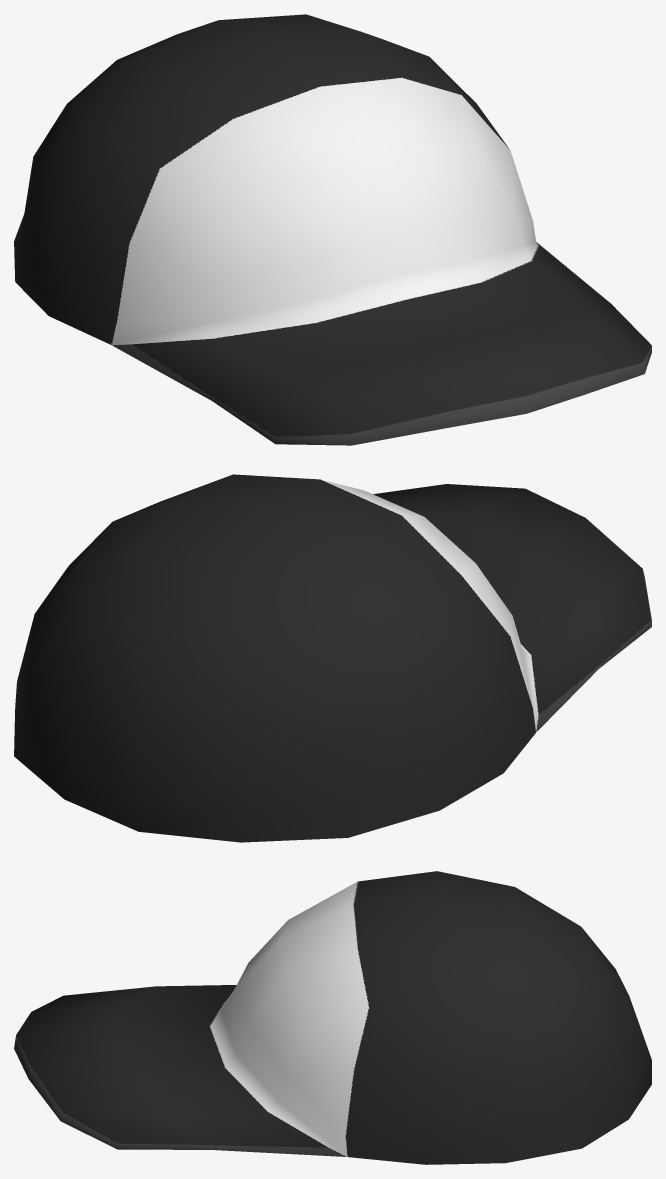
File: Acess_Boné.fbx
3 views of the same model, one above another, from view 1: azimuth 30°, elevation 25°; view 2: azimuth 150°, elevation 25°; view 3: azimuth 270°, elevation 25° (orthographic). The views are drawn at different scales.
Parts seen in each view (by area): view 1: Cube.002; view 2: Cube.002; view 3: Cube.002.
Boxes of the visible parts, bbox=[...] form: Cube.002: bbox=[14, 14, 651, 445]; Cube.002: bbox=[14, 474, 651, 842]; Cube.002: bbox=[14, 871, 651, 1164].
Size of the model in its own units: 47.8 by 23.18 by 70.64.
